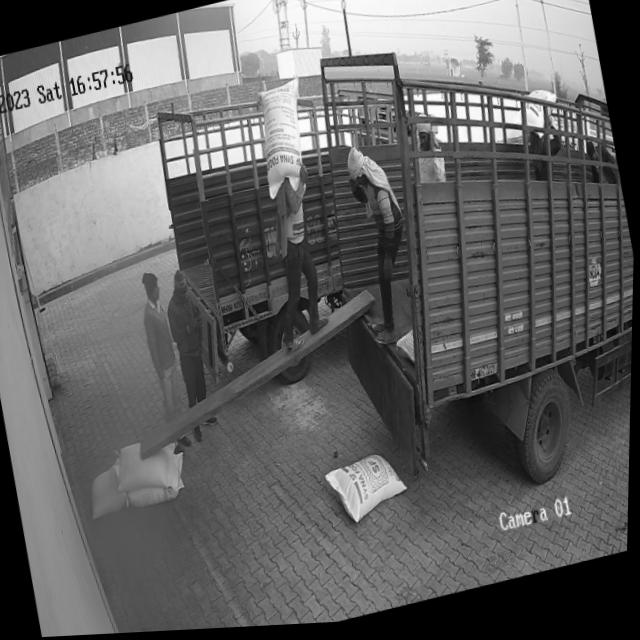sack: (250, 80, 320, 204), (325, 452, 414, 532), (112, 433, 192, 503), (84, 463, 133, 522), (126, 478, 189, 512)
